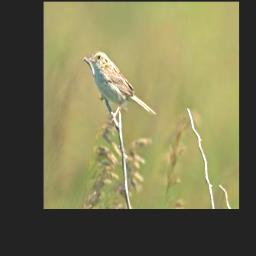Sparrow: (86, 49, 157, 125)
